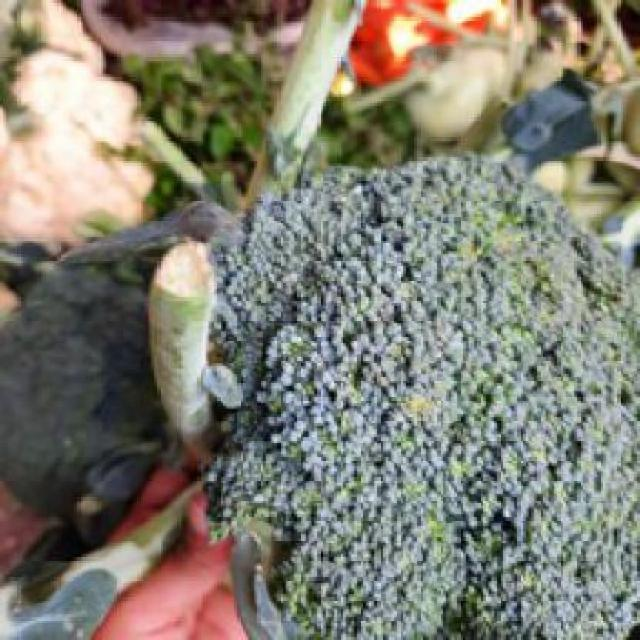broccoli: (172, 174, 638, 632)
